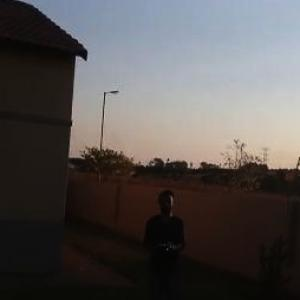follow: (135, 186, 189, 298)
